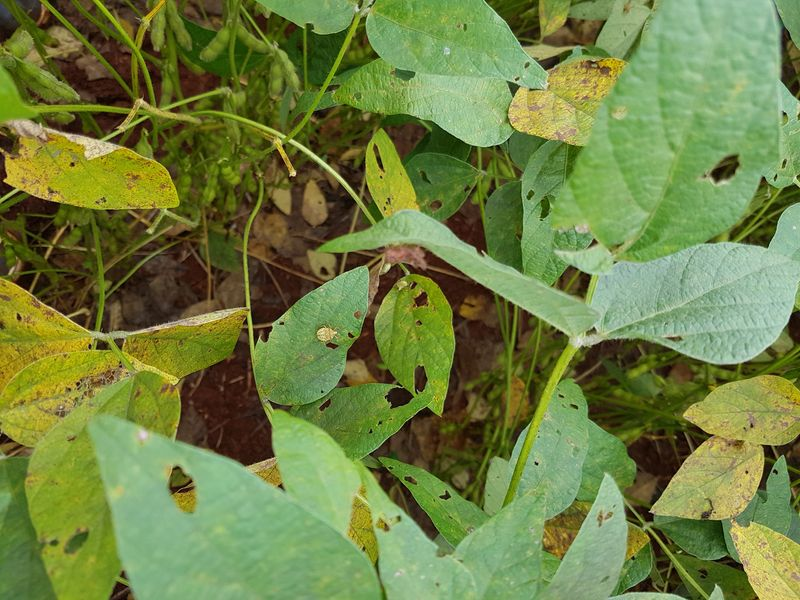Euschistus_heros_ninfa: (310, 319, 343, 346)
